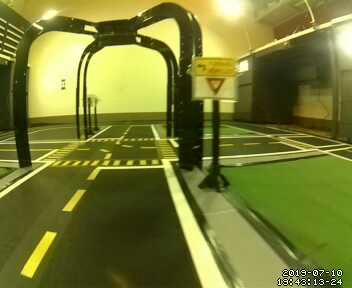Turn Yield: (192, 54, 240, 102)
